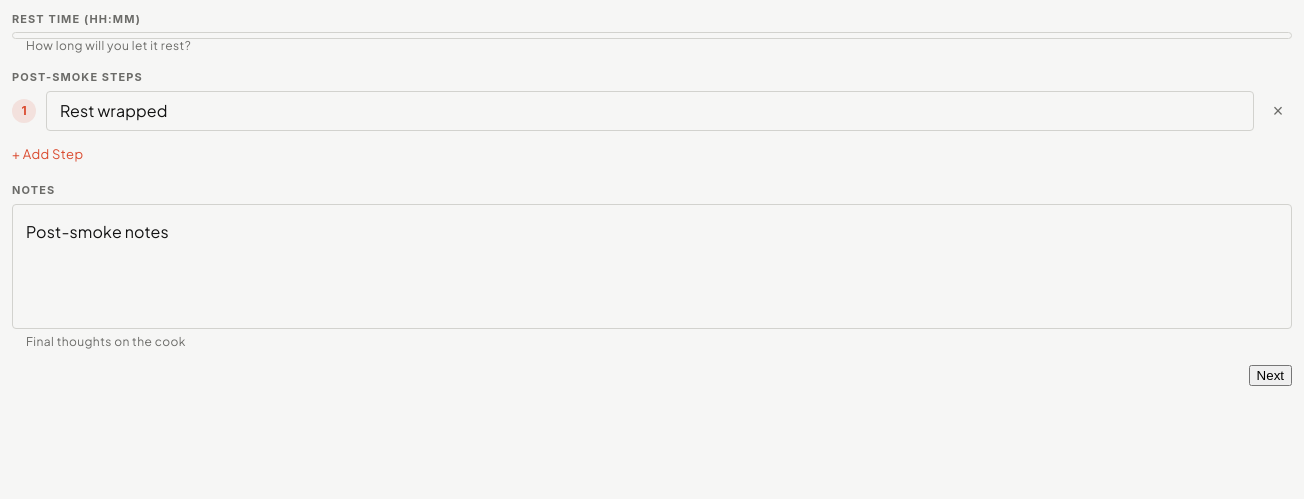
PostSmokeStep › adds, edits and drops wrap-up steps, persisting the survivors in order
Check: the text box showing "Rest wrapped" is shown, box [60, 99, 1240, 122]
Click the button with test id "postsmoke-step-add-button". click: {"x": 50, "y": 154}
box: [12, 138, 88, 169]
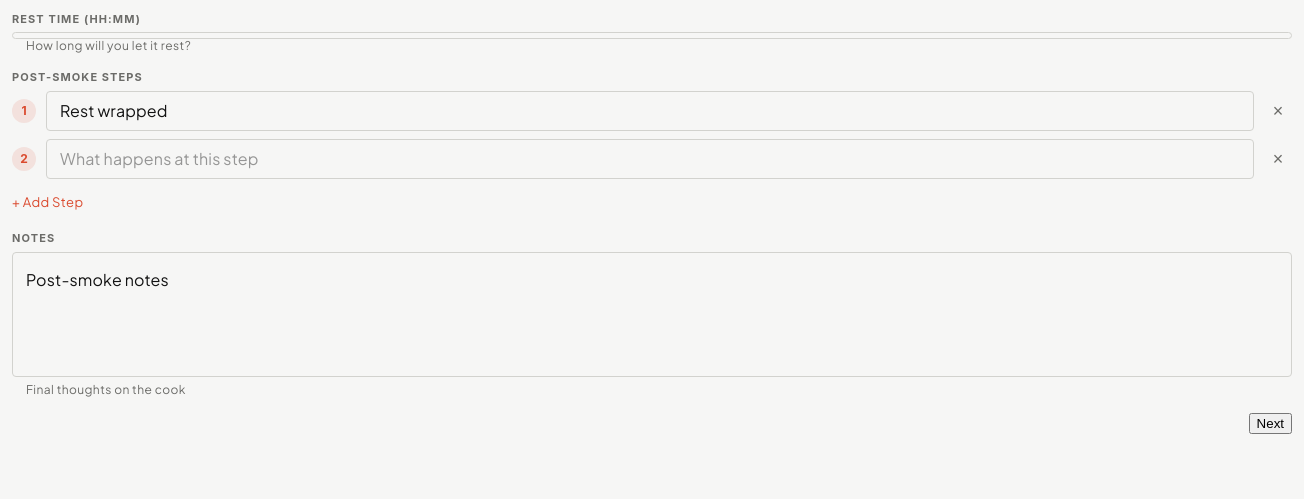
Type "Hold in the cooler" into the text box with test id "postsmoke-step-input" showing "What happens at this step". click: {"x": 650, "y": 158}
box: [60, 147, 1240, 170]
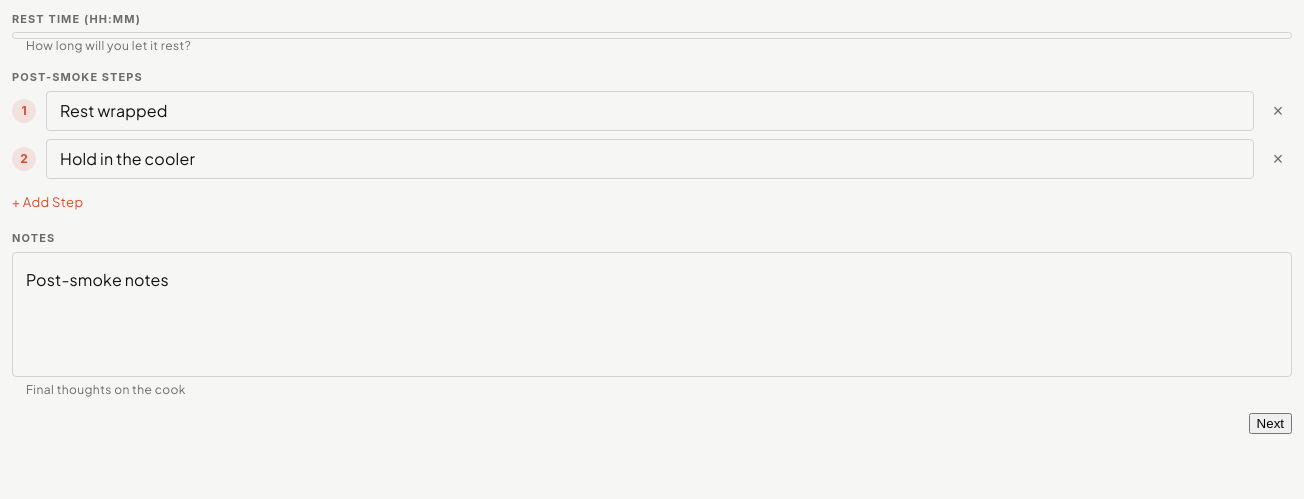
Click the button with test id "postsmoke-step-add-button". click: {"x": 50, "y": 202}
box: [12, 186, 88, 217]
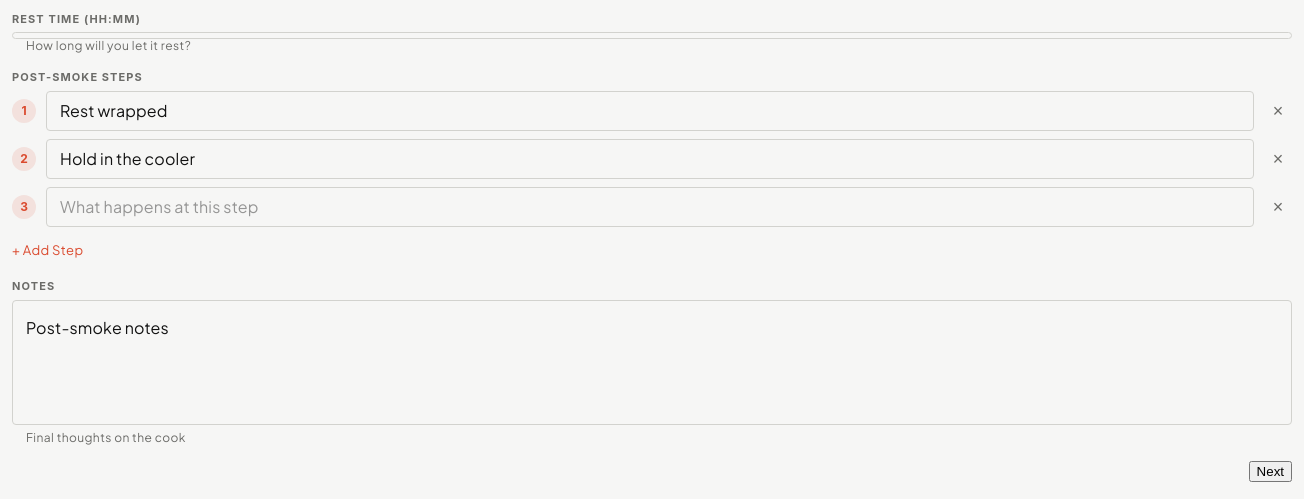
Type "Slice against the grain" into the text box with test id "postsmoke-step-input" showing "What happens at this step". click: {"x": 650, "y": 206}
box: [60, 195, 1240, 218]
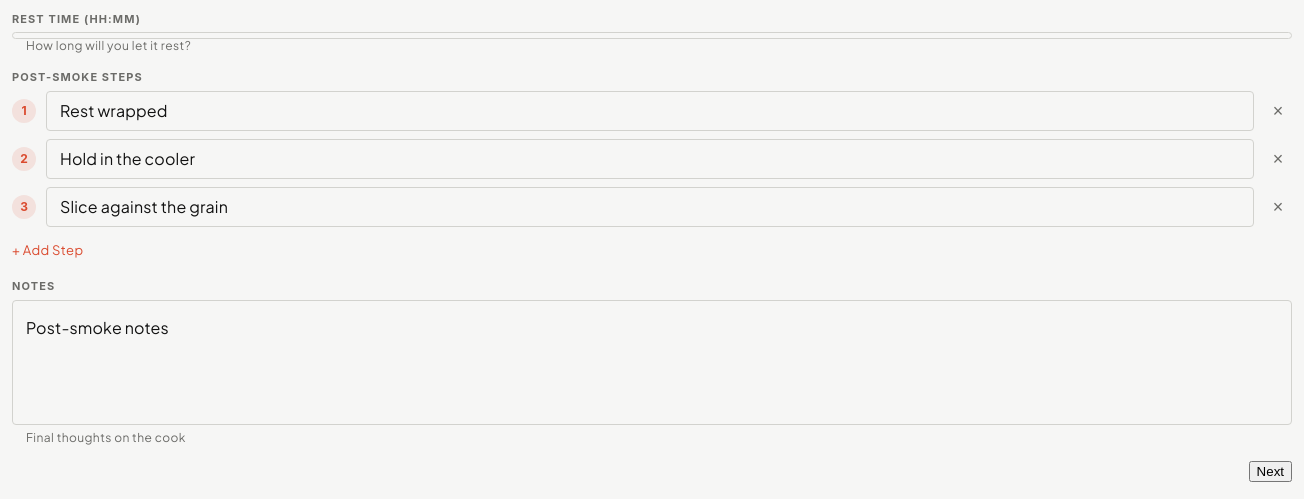
Click the 2nd button with test id "postsmoke-step-remove-button". click: {"x": 1278, "y": 158}
box: [1264, 144, 1292, 172]
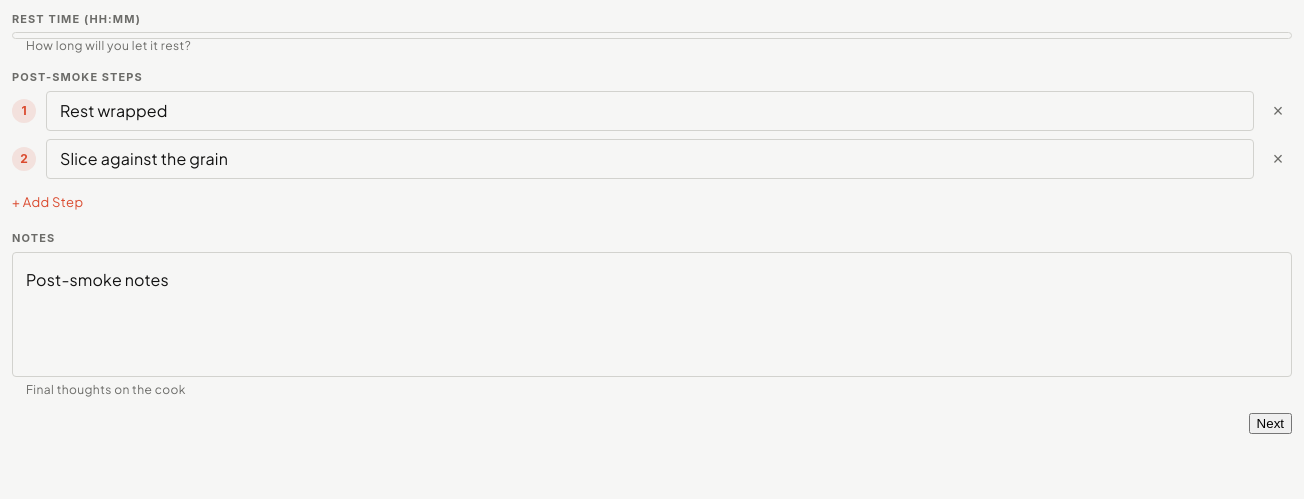
Check: the number of elements with test id "postsmoke-step-row" is 2, box [12, 90, 1292, 130]; [12, 138, 1292, 178]
